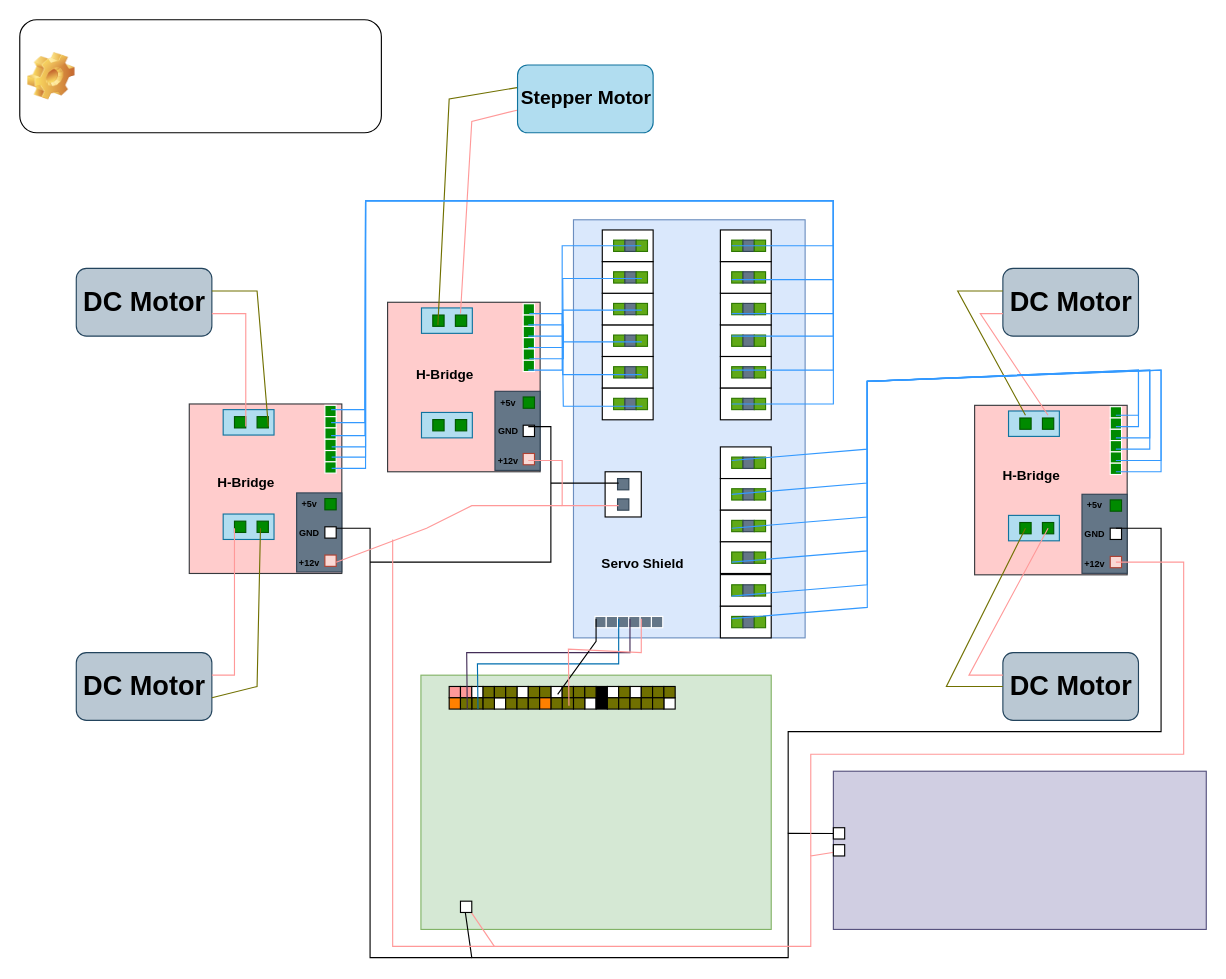
The diagram is 1226 pixels wide and 979 high, and some of its shapes have lost their labels. The centre of each missing label's shape, as x and y in pixels:
Battery: pixel 1019 849
BattleBot: pixel 200 76
Raspberry Pi: pixel 595 801
